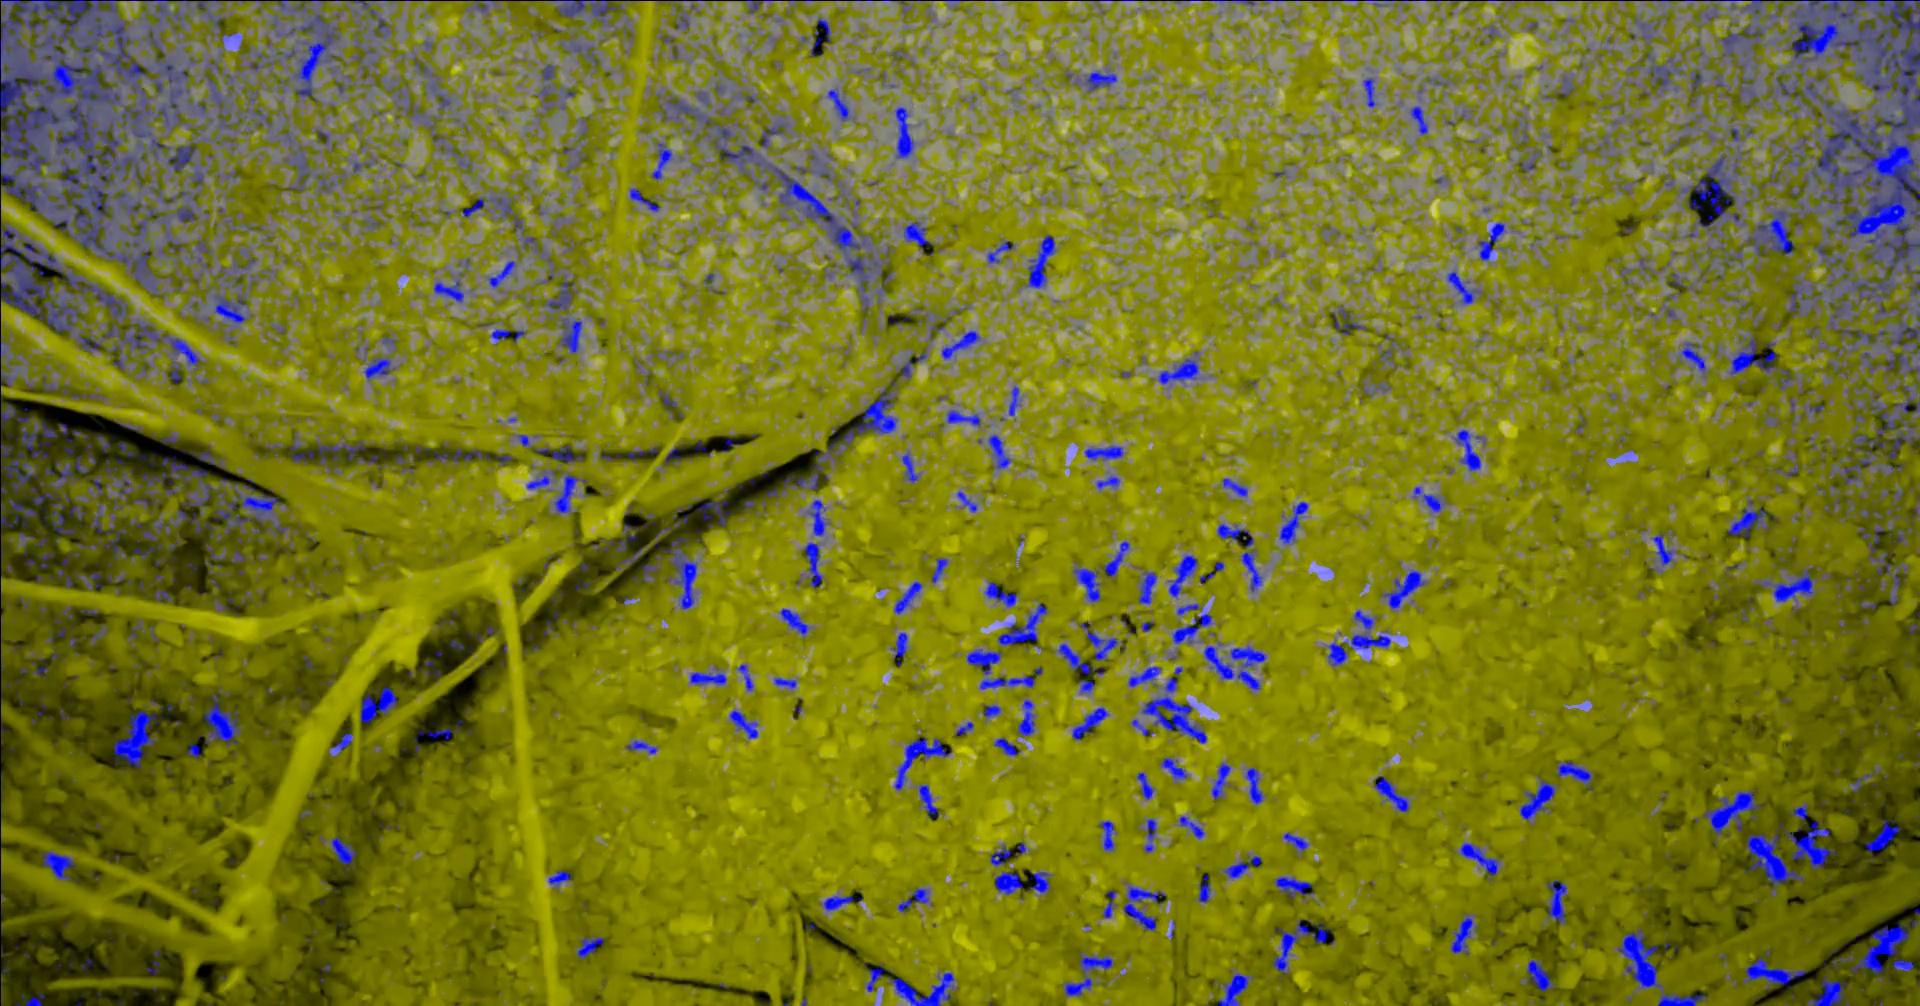ant: (1858, 523, 1911, 605), (83, 459, 136, 533), (143, 0, 232, 41), (1731, 335, 1794, 387), (204, 58, 250, 130), (1862, 489, 1920, 544), (1218, 523, 1263, 592), (1272, 920, 1331, 973), (897, 737, 952, 790), (968, 648, 1036, 688), (1785, 819, 1837, 869), (663, 537, 698, 608), (204, 686, 243, 747), (463, 196, 526, 232), (1064, 951, 1115, 996), (889, 972, 956, 1005), (1743, 956, 1808, 989), (999, 603, 1049, 645), (417, 445, 514, 465), (1124, 884, 1167, 930), (1343, 608, 1392, 649), (1759, 567, 1815, 601), (1383, 569, 1429, 608), (1730, 499, 1774, 537), (1521, 776, 1559, 821), (1643, 50, 1684, 90), (1081, 622, 1124, 661), (557, 0, 623, 24), (317, 439, 378, 465), (1029, 234, 1057, 288), (60, 423, 112, 452), (1462, 842, 1501, 880), (350, 0, 391, 37), (1058, 643, 1105, 674), (206, 542, 250, 575), (555, 471, 588, 513), (361, 686, 399, 721), (1159, 351, 1200, 384), (1723, 25, 1765, 57), (1170, 554, 1200, 597), (1374, 775, 1411, 810), (1789, 279, 1823, 316), (215, 286, 249, 323), (1455, 429, 1486, 470), (150, 180, 201, 205), (1073, 706, 1110, 739), (1865, 819, 1902, 852), (1219, 972, 1255, 1005), (1281, 500, 1309, 542), (1810, 976, 1849, 1005), (545, 276, 577, 311), (50, 551, 81, 587), (795, 150, 832, 180), (1558, 760, 1595, 790), (943, 330, 982, 359), (1175, 614, 1213, 643), (250, 47, 298, 70), (1451, 913, 1479, 953), (1448, 271, 1481, 304), (655, 513, 690, 545), (1, 498, 38, 527), (1479, 222, 1507, 260), (1782, 135, 1815, 166), (290, 145, 312, 191), (1074, 565, 1103, 601), (602, 523, 639, 551), (76, 572, 133, 589), (1335, 305, 1368, 335), (104, 527, 135, 560), (43, 850, 76, 880), (897, 105, 916, 158), (187, 239, 213, 276), (1525, 959, 1557, 989), (895, 580, 924, 614), (1548, 879, 1570, 923), (1105, 541, 1131, 577), (331, 835, 358, 870), (420, 719, 463, 741), (905, 221, 936, 251), (434, 272, 465, 302), (168, 142, 199, 171), (617, 542, 650, 570), (1, 335, 19, 386), (273, 0, 328, 17), (1224, 855, 1263, 878), (1276, 876, 1316, 899), (899, 348, 928, 379), (808, 499, 832, 536), (1680, 340, 1707, 373), (698, 499, 731, 526), (985, 580, 1018, 607), (559, 318, 583, 353), (537, 445, 585, 462), (730, 709, 759, 738), (811, 17, 833, 56), (805, 542, 824, 587), (989, 434, 1013, 469), (1705, 0, 1743, 22), (489, 260, 518, 288), (781, 608, 810, 636), (568, 39, 599, 65), (1415, 486, 1446, 512), (1851, 766, 1883, 791), (899, 887, 931, 912), (291, 431, 315, 464), (193, 445, 227, 467), (653, 142, 673, 180), (364, 357, 396, 381), (1653, 533, 1676, 567), (762, 119, 789, 147), (631, 187, 662, 211), (1213, 762, 1232, 799), (135, 542, 165, 565), (1129, 666, 1163, 686), (1086, 70, 1117, 91), (829, 88, 851, 119), (1162, 756, 1189, 781), (444, 146, 472, 170), (996, 870, 1023, 894), (577, 935, 604, 959), (1738, 76, 1759, 109), (528, 469, 561, 489), (919, 784, 940, 817), (1545, 75, 1575, 98), (62, 384, 105, 399), (130, 620, 160, 641), (1018, 699, 1036, 735), (1247, 767, 1265, 804), (988, 240, 1016, 263), (1719, 243, 1743, 268), (1742, 0, 1777, 18), (1180, 815, 1206, 838), (691, 668, 728, 685), (1086, 445, 1125, 460), (867, 962, 888, 991), (540, 64, 557, 97), (891, 633, 909, 666), (1757, 166, 1782, 191), (330, 732, 354, 756), (432, 83, 453, 109), (1284, 831, 1310, 852), (1140, 572, 1158, 603), (118, 441, 147, 460), (949, 409, 982, 426), (491, 328, 527, 343), (643, 554, 663, 580), (825, 895, 863, 909), (1669, 272, 1693, 293), (903, 452, 921, 481), (1100, 821, 1116, 851), (1411, 105, 1429, 133), (1636, 17, 1657, 39), (659, 389, 681, 412), (1030, 871, 1051, 894), (1382, 333, 1399, 359), (1223, 478, 1250, 495), (1825, 485, 1843, 512), (738, 664, 756, 691), (996, 737, 1022, 754), (1138, 772, 1156, 799), (1691, 69, 1704, 105), (957, 490, 979, 512), (990, 843, 1012, 865), (317, 174, 345, 191), (1330, 641, 1349, 666), (879, 269, 894, 298), (414, 56, 436, 76), (747, 0, 781, 13), (177, 205, 199, 224), (1145, 818, 1158, 852), (408, 95, 425, 119), (665, 447, 690, 465), (22, 663, 50, 678), (550, 869, 571, 888), (1364, 77, 1378, 107), (1103, 889, 1117, 918), (1742, 594, 1757, 621), (1832, 951, 1855, 969), (932, 558, 949, 582), (1010, 385, 1022, 415), (629, 446, 659, 459), (627, 741, 658, 753), (720, 434, 742, 452), (91, 624, 109, 645), (1133, 719, 1156, 735), (1790, 801, 1810, 821), (524, 236, 545, 254), (1199, 874, 1211, 902), (1098, 474, 1121, 489), (397, 455, 417, 473), (188, 98, 208, 114), (70, 506, 86, 526), (1830, 362, 1851, 377), (190, 163, 204, 185), (254, 108, 273, 124), (354, 159, 378, 171), (77, 537, 102, 550), (43, 373, 60, 391), (472, 0, 498, 11), (234, 257, 257, 269), (171, 359, 183, 384), (151, 589, 174, 601), (775, 677, 797, 688), (1806, 401, 1826, 414), (1178, 603, 1204, 614), (984, 704, 1002, 718), (957, 721, 975, 735), (677, 10, 690, 29), (39, 551, 55, 567), (1895, 959, 1915, 970), (25, 993, 46, 1005), (740, 499, 758, 512), (1081, 680, 1096, 694), (1, 617, 5, 669), (519, 434, 535, 447), (163, 433, 182, 443), (1, 442, 14, 457), (149, 960, 161, 976), (698, 91, 711, 105), (1730, 127, 1743, 140), (317, 130, 330, 144), (189, 743, 201, 757), (1521, 161, 1535, 171), (1911, 281, 1920, 296)
